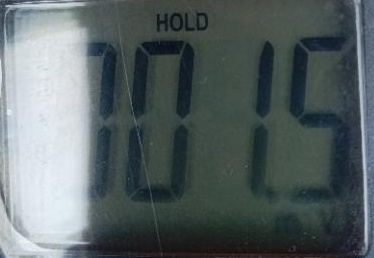ClampMeter_Display: (0, 0, 374, 258)
